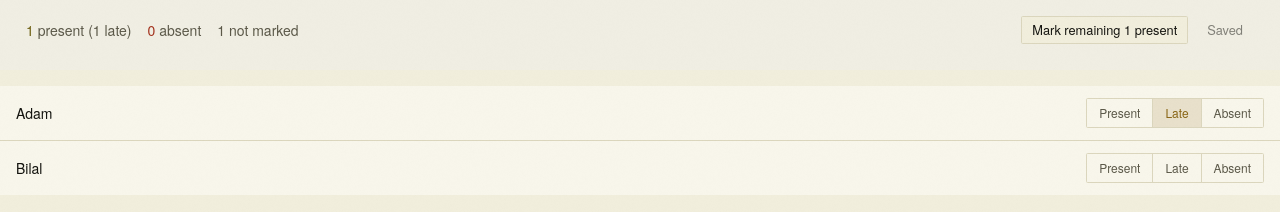
Scenario: AttendanceRegister: late › shows a saved late mark as Late, and treats Present as a change
This screenshot has width=1280, height=212.
Click the button "Present" in the row of "Adam". click: click(1120, 113)
box: [1087,99,1152,127]
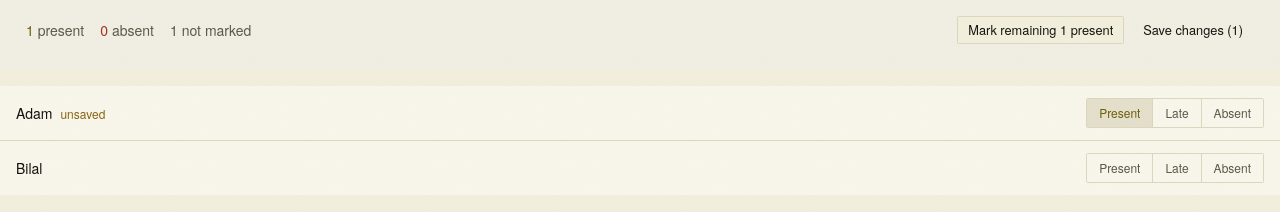
Expected: the button "Save changes (1)" is shown, [1132,16,1254,44]
